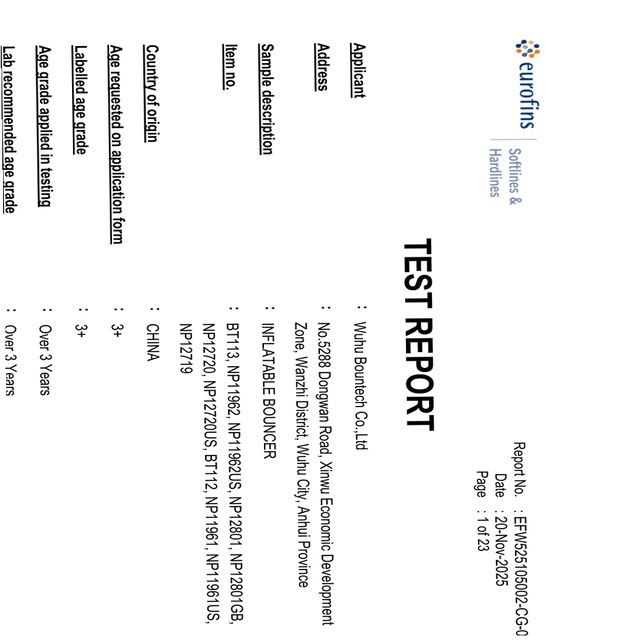eurofins: (507, 33, 546, 135)
